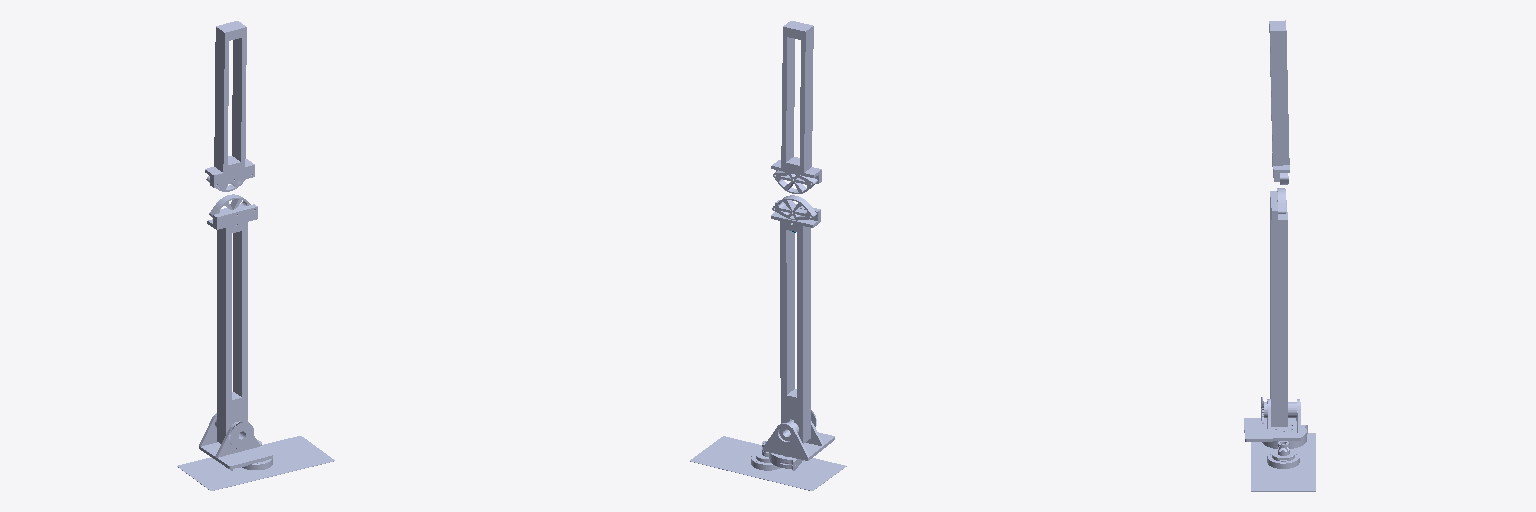
The robot description file, URDF, robot "robotic_arm":
<?xml version="1.0" encoding="utf-8"?>

<robot
  name="robotic_arm">
  <link name="world"/>

  <!-- JOINT b/W WORLD - BASE -->
  <joint name="base_link_fixed" type="fixed">
    <parent link="world"/>
    <child link="base_link"/>
    <origin xyz="0 0 0" rpy="0 0 0"/>
  </joint>

  <link
    name="base_link">
    <inertial>
      <origin xyz="0 0 0" rpy="0 0 0"/>
      <mass value="0.001"/>
      <inertia
        ixx="1e-6" ixy="0" ixz="0"
        iyy="1e-6" iyz="0"
        izz="1e-6"/>
    </inertial>
    <visual>
      <origin
        xyz="0 0 0"
        rpy="-1.5708 0 0" />
      <geometry>
        <mesh
          filename="package://robotic_arm/meshes/base_link.STL" />
      </geometry>
      <material
        name="">
        <color
          rgba="0.79216 0.81961 0.93333 1" />
      </material>
    </visual>

    <collision>
      <origin
        xyz="0 0 0"
        rpy="0 0 0" />
      <geometry>
        <box size=  " 0.5 0.2 0.001" />
      </geometry>
      <material
        name= " collision material">
        <color
          rgba = " 1.0 0.5 0.0 0.6">
      </color>
    </material>
    </collision>
  </link>
  <link
    name="capstan_drive">
    <inertial>
      <origin
        xyz="-0.00010871 6.7353E-06 -0.017028"
        rpy="0 0 0" />
      <mass
        value="0.25255" />
      <inertia
        ixx="0.0001509"
        ixy="-2.9002E-09"
        ixz="4.457E-07"
        iyy="0.00015005"
        iyz="-5.7669E-09"
        izz="0.00025311" />
    </inertial>
    <visual>
      <origin
        xyz="0 0 -0.049"
        rpy="1.5708 0 0" />
      <geometry>
        <mesh
          filename="package://robotic_arm/meshes/capstan_drive.STL" />
      </geometry>
      <material
        name="">
        <color
          rgba="0.79216 0.81961 0.93333 1" />
      </material>
    </visual>
   <!--  <collision>
      <origin
        xyz="0 0 -0.05"
        rpy="0 0 0" />
      <geometry>
        <mesh
          filename="package://robotic_arm/gazebo_models/collision/capstan_collision/capstan_collision.stl" />
      </geometry>
    </collision> -->
  </link>

  <!-- JOINT B/W CAPSTAN - BASE -->
  <joint
    name="base_capstan"
    type="fixed">
    <origin
      xyz="0 0 0.0395"
      rpy="0 0 0" />
    <parent
      link="base_link" />
    <child
      link="capstan_drive" />
    <axis
      xyz="0 0 0" />
  </joint>


<!-- ARM BASE  -->
<link
    name="arm_base">
    <inertial>
      <origin
        xyz="-0.012584 -0.0065009 0.032254"
        rpy="0 0 0" />
      <mass
        value="0.70947" />
      <inertia
        ixx="0.0011099"
        ixy="-1.8074E-07"
        ixz="-0.00010562"
        iyy="0.0016516"
        iyz="1.4831E-07"
        izz="0.0023602" />
    </inertial>
    <visual>
      <origin
        xyz="0 -0.09 -0.06"
        rpy="1.5708 0 -1.5708" />
      <geometry>
        <mesh
          filename="package://robotic_arm/meshes/arm_base.STL" />
      </geometry>
      <material
        name="">
        <color
          rgba="0.79216 0.81961 0.93333 1" />
      </material>
    </visual>
  <!--   <collision>
      <origin
        xyz="0 0 0"
        rpy="0 0 -1.5708" />
      <geometry>
        <mesh
         filename="package://robotic_arm/gazebo_models/collision/arm_base_collision.stl" />
      </geometry>
    </collision> -->
  </link>

  <!-- Capstan to arm Base -->
  <joint
    name="capstan_arm"
    type="revolute">
    <origin
      xyz="-0.088248 0.00055748 0.008"
      rpy="0 0 1.5894" />
    <parent
      link="capstan_drive" />
    <child
      link="arm_base" />
    <axis
      xyz="0 0 -1" />
    <limit
      lower="-1.4"
      upper="1.4"
      effort="36"
      velocity="0.2" /> 
    </joint>

<!-- arm base to link 1 rotation joint -->
 <joint
    name="base_arm_rot"
    type="revolute">
    <origin
      xyz="-0.0072956 0 0.1"
      rpy="0 0.00035591 -1.5708" />
    <parent
      link="arm_base" />
    <child
      link="arm_link_1" />
    <axis
      xyz="0 -1 0" />
    <limit
      lower="-0.5"
      upper="1.35"
      effort="25"
      velocity="0.1" />
  </joint>


<!-- Rotation Helper for joint 1 -->
  <link name="arm_link_1_helper">
  <inertial>
    <origin xyz="0 0 0" rpy="0 0 0"/>
    <mass value="0.001"/>  
  <inertia ixx="1e-6" ixy="0" ixz="0" iyy="1e-6" iyz="0" izz="1e-6"/>
  </inertial>
  <visual>
    <origin xyz="0 0 0" rpy="0 0 0"/>
    <geometry>
      <box size="0.01 0.01 0.01"/>  
   </geometry>
    <material name="black"/>
  </visual>
</link> 

<!-- ARM LINK - 1 -->
   <link
    name="arm_link_1">
    <inertial>
      <origin
        xyz="1.3878E-17 -0.00051908 0.31703"
        rpy="0 0 0" />
      <mass
        value="1.9995" />
      <inertia
        ixx="0.012287"
        ixy="-6.7763E-20"
        ixz="-2.1344E-18"
        iyy="0.012814"
        iyz="3.6575E-05"
        izz="0.0015327" />
    </inertial>
    <visual>
      <origin
        xyz="0.09 0 -0.16"
        rpy="1.5708 0 0" />
      <geometry>
        <mesh
          filename="package://robotic_arm/meshes/arm_link_1.STL" />
      </geometry>
      <material
        name="">
        <color
          rgba="0.79216 0.81961 0.93333 1" />
      </material>
    </visual>
   <!--  <collision>
      <origin
        xyz="0 0 0"
        rpy="0 0 0" />
      <geometry>
        <mesh
          filename="package://robotic_arm/gazebo_models/collision/arm_link_1_collision.stl" />
      </geometry>
    </collision> -->
  </link>


<!-- Arm link 1 to 2 helper -->
  <joint
    name="arm_elbow_roll"
    type="revolute">
    <origin
      xyz="4.1173E-05 0.005238 0.62096"
      rpy="0.0068467 -0.00071181 0" />
    <parent
      link="arm_link_1" />
    <child
      link="arm_link_1_helper" />
    <axis
      xyz="0 1 0" />
    <limit
      lower="-0.5"
      upper="0.5"
      effort="12"
      velocity="0.15" />
  </joint>


  <!-- ARM LINK 2 -->
<link
    name="arm_link_2">
    <inertial>
      <origin
        xyz="-1.3878E-17 -0.0079993 0.24635"
        rpy="0 0 0" />
      <mass
        value="1.0306" />
      <inertia
        ixx="0.0063388"
        ixy="1.0842E-19"
        ixz="-1.5675E-19"
        iyy="0.0071309"
        iyz="-6.364E-05"
        izz="0.0011923" />
    </inertial>
    <visual>
      <origin
        xyz="0.084 0 -0.77"
        rpy="1.5708 0 0" />
      <geometry>
        <mesh
          filename="package://robotic_arm/meshes/arm_link_2.STL" />
      </geometry>
      <material
        name="">
        <color
          rgba="0.79216 0.81961 0.93333 1" />
      </material>
    </visual>
    <!-- 
    <collision>
      <origin
        xyz="0 0 0"
        rpy="0 0 0" />
      <geometry>
        <mesh
          filename="package://robotic_arm/gazebo_models/collision/arm_link_2_collision.stl" />
      </geometry>
    </collision> -->
     </link>


    <!-- Arm elbow joint helper to arm link 2 --> 
  <joint
    name="arm_elbow"
    type="revolute">
    <origin
      xyz="4.1173E-05 0.005238 0.125"
      rpy="0.0068467 -0.00071181 0" />
    <parent
      link="arm_link_1_helper" />
    <child
      link="arm_link_2" />
    <axis
      xyz="0 1 0" />
    <limit
      lower="-1.4"  
      upper="1.4"
      effort="12"
      velocity="0.15" />
  </joint> 


<!-- Transmission tags for gazebo -->
<!-- For capstan Joint -->
<transmission name="capstan_arm_trans">
  <type>transmission_interface/SimpleTransmission</type>
  <joint name="capstan_arm">
    <hardwareInterface>hardware_interface/EffortJointInterface</hardwareInterface>
  </joint>
  <actuator name="capstan_motor">
    <hardwareInterface>hardware_interface/EffortJointInterface</hardwareInterface>
    <mechanicalReduction>1</mechanicalReduction>
  </actuator>
</transmission>

<!-- Transmission for Joint 1 -->
<transmission name="base_arm_rot_trans">
  <type>transmission_interface/SimpleTransmission</type>
  <joint name="base_arm_rot">
    <hardwareInterface>hardware_interface/EffortJointInterface</hardwareInterface>
  </joint>
  <actuator name="base_arm_rot_motor">
    <hardwareInterface>hardware_interface/EffortJointInterface</hardwareInterface>
    <mechanicalReduction>1</mechanicalReduction>
  </actuator>
</transmission>

<!-- Transmission for Joint 2 -->
<transmission name="arm_elbow_trans">
  <type>transmission_interface/SimpleTransmission</type>
  <joint name="arm_elbow">
    <hardwareInterface>hardware_interface/EffortJointInterface</hardwareInterface>
  </joint>
  <actuator name="arm_elbow_motor">
    <hardwareInterface>hardware_interface/EffortJointInterface</hardwareInterface>
    <mechanicalReduction>1</mechanicalReduction>
  </actuator>
</transmission>

<!-- Transmission for Joint 3 -->
<transmission name="arm_elbow_roll_trans">
  <type>transmission_interface/SimpleTransmission</type>
  <joint name="arm_elbow_roll">
    <hardwareInterface>hardware_interface/EffortJointInterface</hardwareInterface>
  </joint>
  <actuator name="arm_elbow_roll_motor">
    <hardwareInterface>hardware_interface/EffortJointInterface</hardwareInterface>
    <mechanicalReduction>1</mechanicalReduction>
  </actuator>
</transmission>

  <!-- Gazebo control recq -->
  <!-- Gazebo will go black if no controller is defined and uncommented -->
  <gazebo>
  <plugin name="gazebo_ros_control" filename="libgazebo_ros_control.so">
    <robotNamespace>/Adesh_Arm</robotNamespace>
    <robotParam>/robot_description</robotParam>
  </plugin>
</gazebo>
</robot>

--- Render facts (derived) ---
Views: 3 orthographic renders of the robot side by side, from view 1: azimuth 30°, elevation 25°; view 2: azimuth 150°, elevation 25°; view 3: azimuth 270°, elevation 25°.
Model robotic_arm with 7 links and 6 joints (4 revolute, 2 fixed), rooted at world, posed every joint at zero.
Links seen in each view (by area): view 1: arm_link_1, arm_link_2, base_link, arm_base; view 2: arm_link_1, arm_link_2, base_link, arm_base; view 3: arm_link_1, arm_link_2, base_link, arm_base, capstan_drive.
Boxes of the visible links, box(x1,y1,x2,y2) form: arm_link_1: box(207, 194, 257, 448); arm_link_2: box(205, 21, 254, 191); base_link: box(177, 436, 334, 490); arm_base: box(199, 413, 272, 470); arm_link_1: box(771, 195, 820, 443); arm_link_2: box(771, 21, 821, 193); base_link: box(690, 436, 846, 490); arm_base: box(763, 421, 834, 470); arm_link_1: box(1261, 188, 1296, 426); arm_link_2: box(1269, 20, 1289, 184); base_link: box(1251, 433, 1315, 491); arm_base: box(1244, 399, 1307, 448); capstan_drive: box(1267, 441, 1299, 468).
Bounding box of the posed robot: 0.415 × 0.2214 × 1.43 m (x, y, z).
Meshes: 5 distinct files referenced, 5 mesh visuals loaded (5 binary STL).
